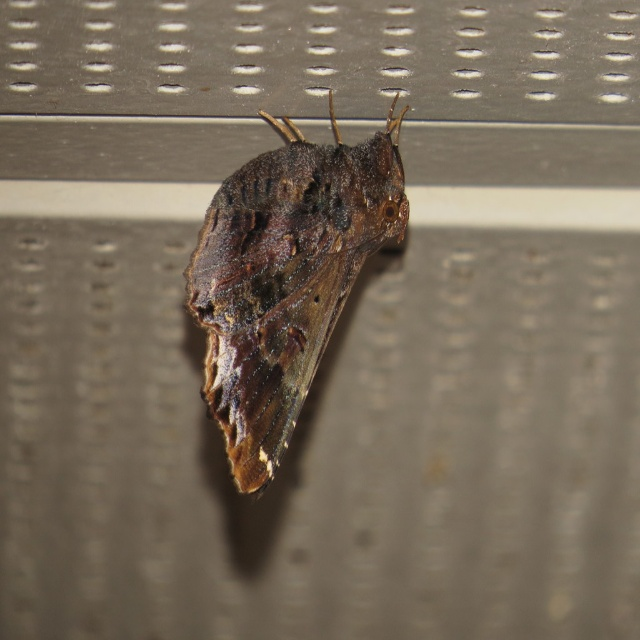Moths and butterflies: (181, 87, 410, 502)
